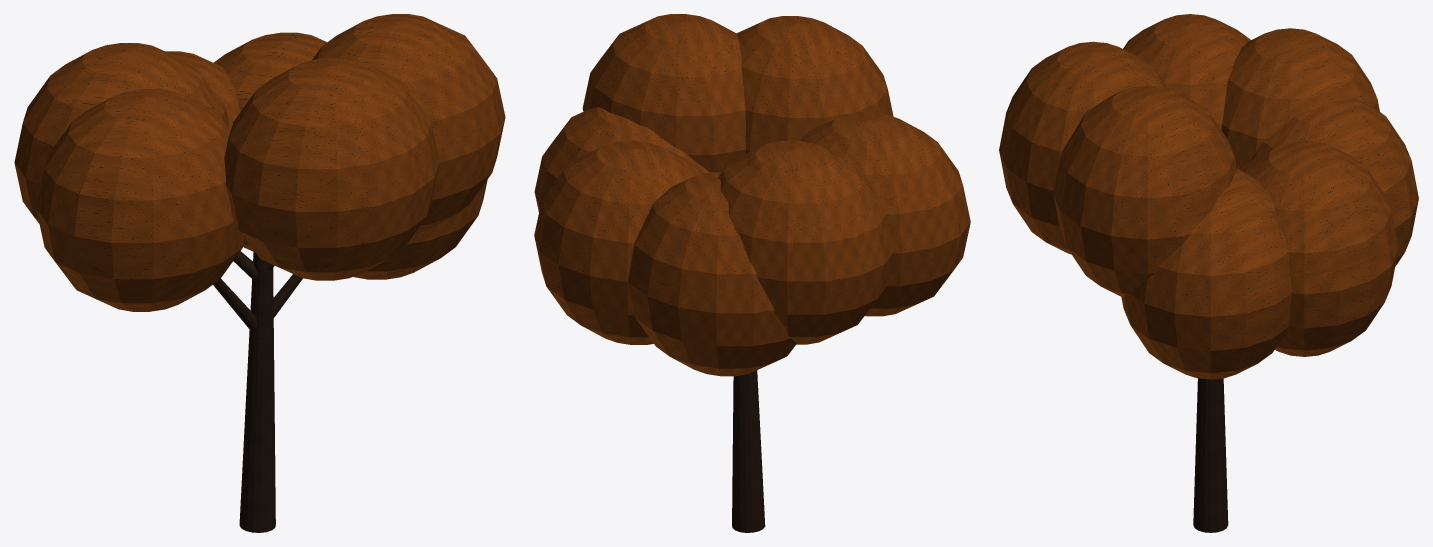
Rendered from PROP-10B04C281AA0_lod0.glb.
The picture shows the model from 3 angles, left to right: view 1: azimuth 30°, elevation 25°; view 2: azimuth 150°, elevation 25°; view 3: azimuth 270°, elevation 25°; orthographic projection. The views are drawn at different scales.
Visible parts, largest first — view 1: leaf_crown.085, trunk.077, branch.049; view 2: leaf_crown.085, trunk.077; view 3: leaf_crown.085, trunk.077.
Part boxes in pixels (x1=…): leaf_crown.085: x1=14, y1=14, x2=505, y2=311; trunk.077: x1=239, y1=250, x2=275, y2=532; branch.049: x1=213, y1=251, x2=302, y2=331; leaf_crown.085: x1=534, y1=14, x2=970, y2=376; trunk.077: x1=732, y1=370, x2=765, y2=532; leaf_crown.085: x1=999, y1=14, x2=1418, y2=379; trunk.077: x1=1193, y1=378, x2=1228, y2=532.
Bounding box in the file's own units: 6.69 × 7.24 × 5.75.
2 materials, 2 textured.
